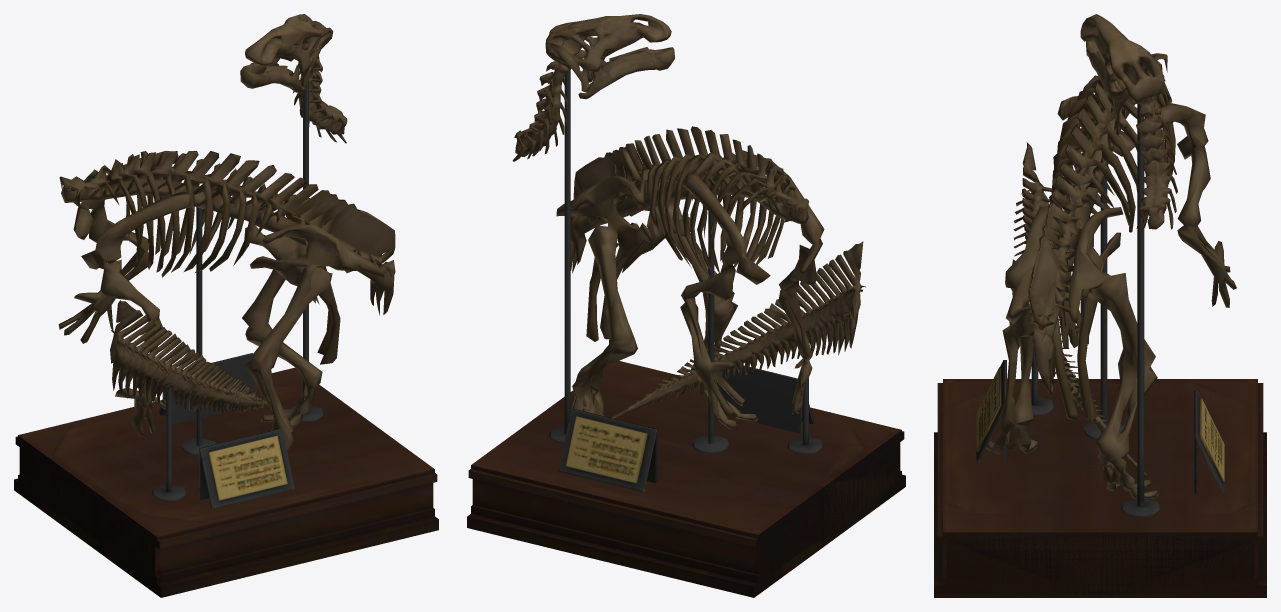
Rendered from fossil-iguanodon.glb.
The picture shows the model from 3 angles, left to right: view 1: azimuth 30°, elevation 25°; view 2: azimuth 150°, elevation 25°; view 3: azimuth 270°, elevation 25°; orthographic projection. The views are drawn at different scales.
Parts seen in each view (by area): view 1: mFossilBaseEnd (×2), mFtrFossilIguanodonB, mFossilBaseMiddle, mFtrFossilIguanodonC, mFtrFossilIguanodonA; view 2: mFossilBaseEnd (×2), mFossilBaseMiddle, mFtrFossilIguanodonB, mFtrFossilIguanodonC, mFtrFossilIguanodonA; view 3: mFossilBaseEnd (×2), mFossilBaseMiddle, mFtrFossilIguanodonB, mFtrFossilIguanodonA, mFtrFossilIguanodonC.
Part boxes in pixels (x1,y1,x2,y2): mFossilBaseEnd (×2): (14,73,438,597); mFtrFossilIguanodonB: (58,151,395,449); mFossilBaseMiddle: (14,207,438,597); mFtrFossilIguanodonC: (110,300,268,413); mFtrFossilIguanodonA: (240,14,347,143); mFossilBaseEnd (×2): (467,69,903,597); mFossilBaseMiddle: (467,211,905,597); mFtrFossilIguanodonB: (556,126,824,429); mFtrFossilIguanodonC: (611,241,865,418); mFtrFossilIguanodonA: (512,14,674,161); mFossilBaseEnd (×2): (934,101,1266,597); mFossilBaseMiddle: (934,177,1266,597); mFtrFossilIguanodonB: (986,53,1236,498); mFtrFossilIguanodonA: (1080,14,1177,234); mFtrFossilIguanodonC: (1013,142,1146,475).
Bounding box in the file's own units: 20.05 × 32.07 × 18.33.
Materials: 6 (6 with a texture image).
